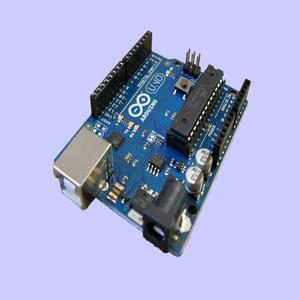duino: (33, 24, 276, 256)
